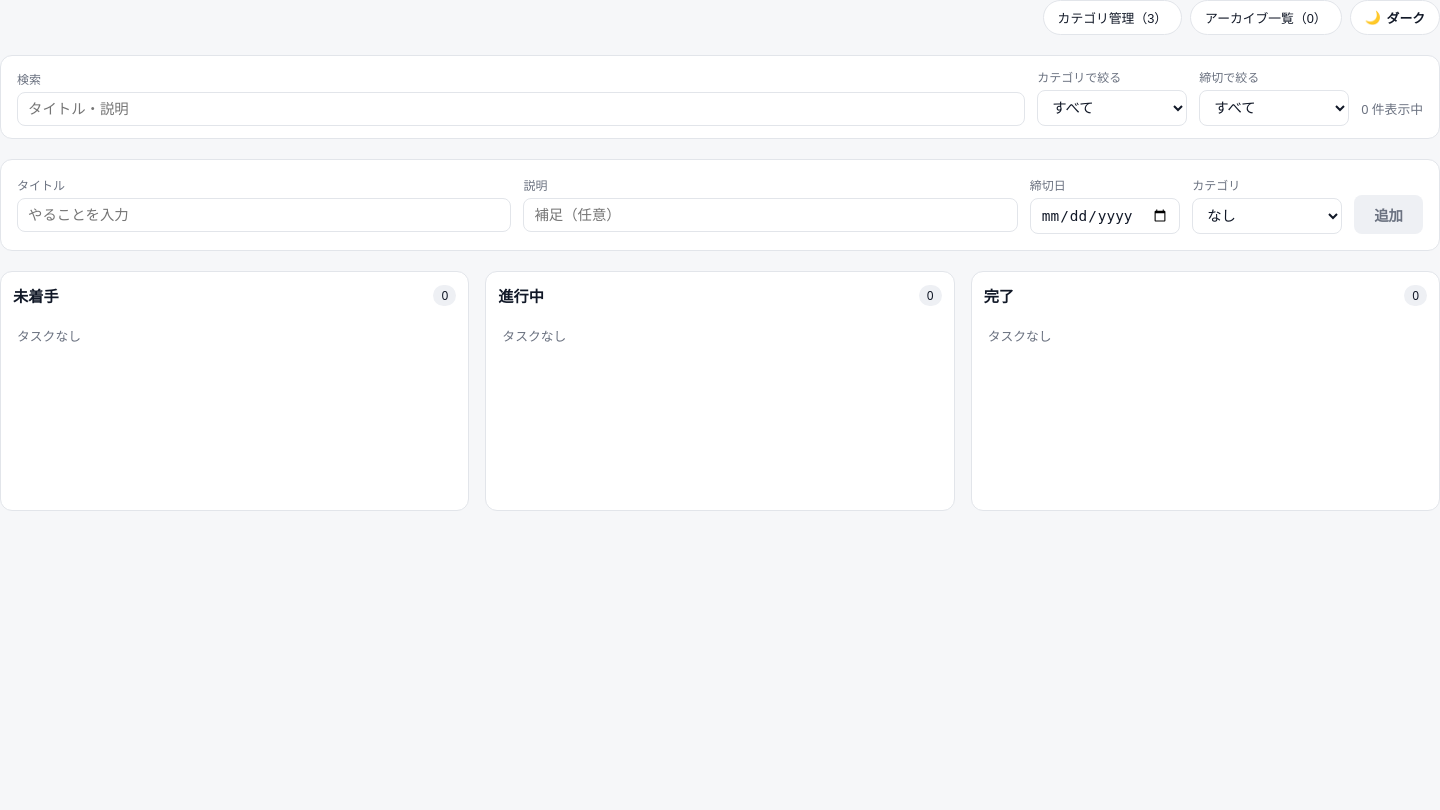
Scenario: KanbanBoard › ダークモードに切り替えると html に data-theme が付く
What coordinates should you click on to do the following:
click the button with aria-label "ダークモードに切り替え"
I would click on:
 (1395, 18)
Its box is [1350,0,1439,35].
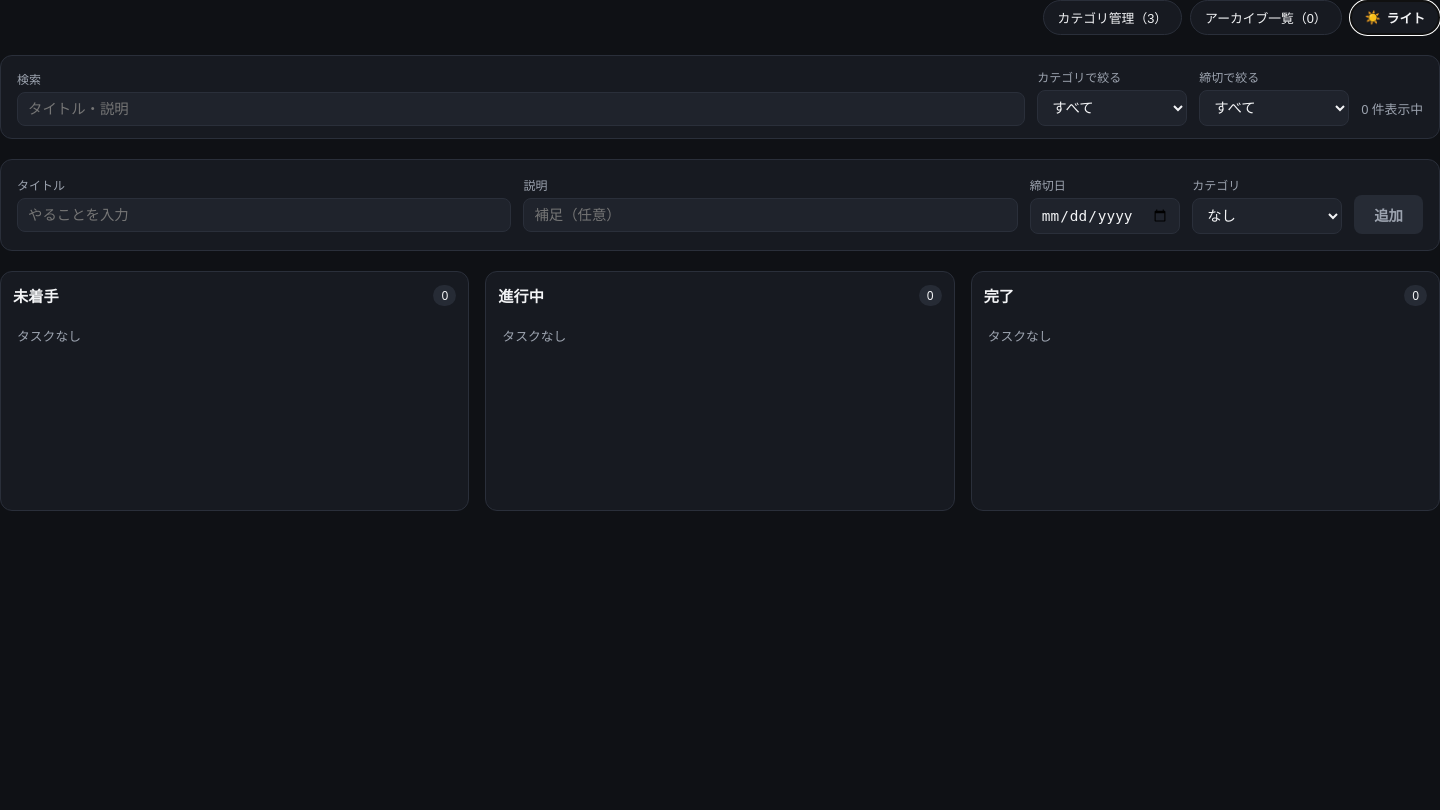
Now the button with aria-label "ライトモードに切り替え" is shown, box [1350,0,1439,35]
